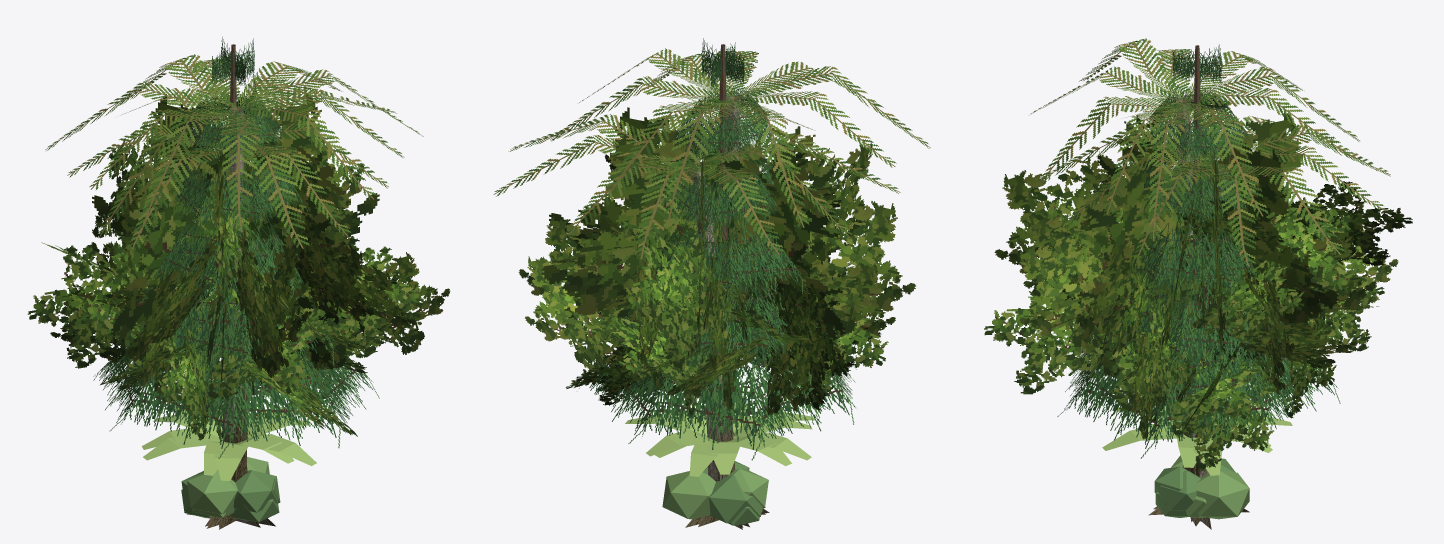
File: barangay_plants.glb
The picture shows the model from 3 angles, left to right: view 1: azimuth 30°, elevation 25°; view 2: azimuth 150°, elevation 25°; view 3: azimuth 270°, elevation 25°; orthographic projection.
Visible parts, largest first — view 1: PH_Mango_B, PH_Pine, PH_Mango_A, PH_Coconut_B, PH_Mango_C, PH_Coconut_A, PH_Banana_B, PH_Bush_A, PH_Bush_B, PH_Banana_A; view 2: PH_Mango_B, PH_Pine, PH_Mango_A, PH_Coconut_B, PH_Coconut_A, PH_Mango_C, PH_Banana_B, PH_Bush_B, PH_Banana_A, PH_Bush_C; view 3: PH_Mango_B, PH_Pine, PH_Mango_A, PH_Mango_C, PH_Coconut_B, PH_Coconut_A, PH_Bush_C, PH_Banana_A, PH_Banana_B, PH_Bush_A.
Boxes of the visible parts, bbox=[...] form: PH_Mango_B: bbox=[41, 78, 450, 527]; PH_Pine: bbox=[93, 37, 379, 526]; PH_Mango_A: bbox=[27, 119, 372, 528]; PH_Coconut_B: bbox=[45, 54, 423, 437]; PH_Mango_C: bbox=[130, 187, 424, 529]; PH_Coconut_A: bbox=[67, 76, 396, 249]; PH_Banana_B: bbox=[142, 409, 310, 475]; PH_Bush_A: bbox=[192, 472, 279, 522]; PH_Bush_B: bbox=[181, 470, 237, 517]; PH_Banana_A: bbox=[143, 406, 316, 521]; PH_Mango_B: bbox=[518, 107, 915, 527]; PH_Pine: bbox=[579, 38, 856, 514]; PH_Mango_A: bbox=[551, 148, 888, 529]; PH_Coconut_B: bbox=[550, 48, 930, 426]; PH_Coconut_A: bbox=[493, 105, 900, 441]; PH_Mango_C: bbox=[565, 181, 881, 527]; PH_Banana_B: bbox=[655, 404, 812, 474]; PH_Bush_B: bbox=[709, 469, 768, 525]; PH_Banana_A: bbox=[625, 396, 814, 476]; PH_Bush_C: bbox=[662, 466, 715, 519]; PH_Mango_B: bbox=[994, 110, 1398, 529]; PH_Pine: bbox=[1057, 44, 1340, 521]; PH_Mango_A: bbox=[984, 139, 1412, 526]; PH_Mango_C: bbox=[1029, 186, 1344, 521]; PH_Coconut_B: bbox=[1030, 38, 1359, 240]; PH_Coconut_A: bbox=[1039, 100, 1390, 266]; PH_Bush_C: bbox=[1160, 470, 1249, 519]; PH_Banana_A: bbox=[1102, 406, 1292, 475]; PH_Banana_B: bbox=[1137, 403, 1274, 467]; PH_Bush_A: bbox=[1154, 466, 1188, 517].
Bounding box in the file's own units: 8.66 × 11.11 × 9.6.
16 materials, 12 textured.
